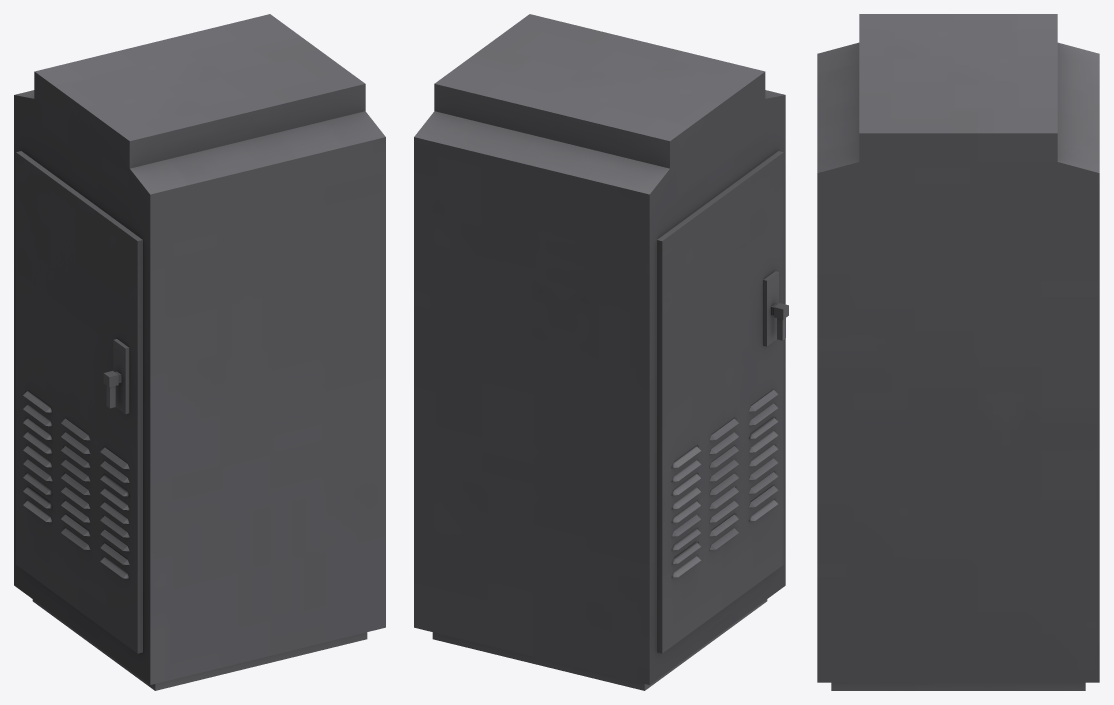
File: signal_cabinets.obj
3 renders of one model, left to right at view 1: azimuth 30°, elevation 25°; view 2: azimuth 150°, elevation 25°; view 3: azimuth 270°, elevation 25°, orthographic. The views are drawn at different scales.
Parts seen in each view (by area): view 1: Cube.006_Cube.022; view 2: Cube.006_Cube.022; view 3: Cube.006_Cube.022.
Part boxes in pixels (left/top/right/bottom): Cube.006_Cube.022: left=14, top=14, right=385, bottom=690; Cube.006_Cube.022: left=414, top=14, right=788, bottom=690; Cube.006_Cube.022: left=817, top=14, right=1099, bottom=690.
Size of the model in its own units: 0.9842 by 1.98 by 0.9.
1 material, 1 textured.
